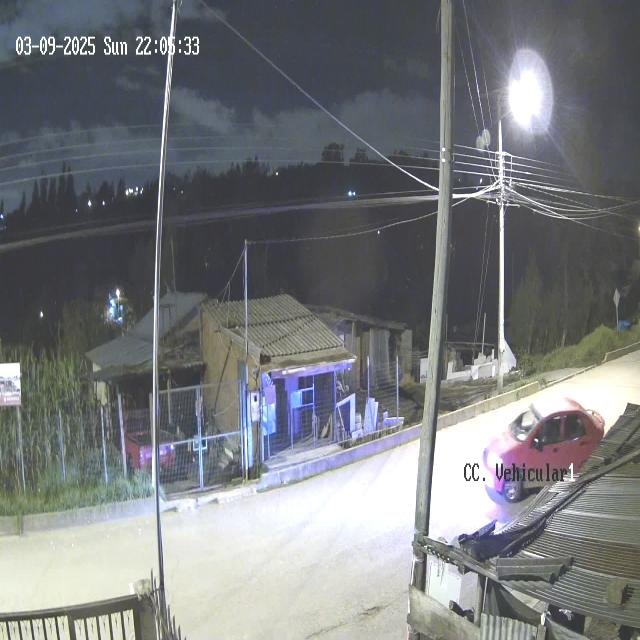SED: (480, 394, 606, 501)
